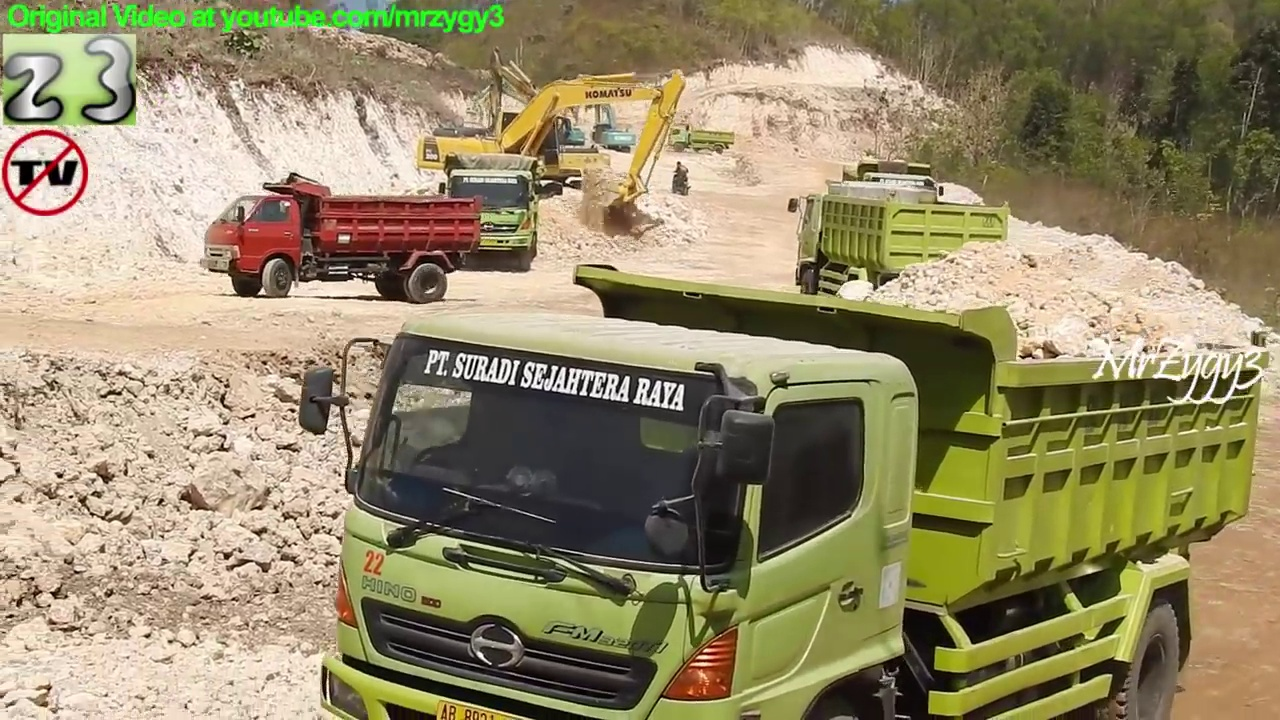excavator: (417, 65, 688, 221), (477, 45, 619, 198), (474, 67, 598, 172), (584, 79, 640, 157)
truck: (298, 264, 1280, 720), (198, 174, 484, 307), (782, 176, 1013, 317), (438, 150, 546, 274), (841, 154, 950, 259), (667, 120, 737, 158)
